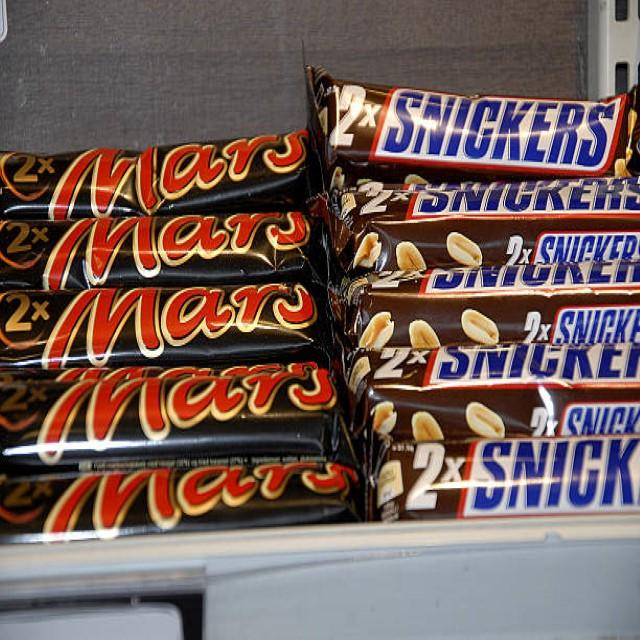mars_chocolate: (25, 458, 352, 550), (0, 365, 330, 438), (0, 291, 318, 348), (0, 216, 303, 275), (13, 145, 320, 188)
snickers_chocolate: (342, 78, 638, 174), (383, 395, 640, 505), (345, 302, 633, 378), (295, 230, 637, 288), (328, 174, 640, 226)
